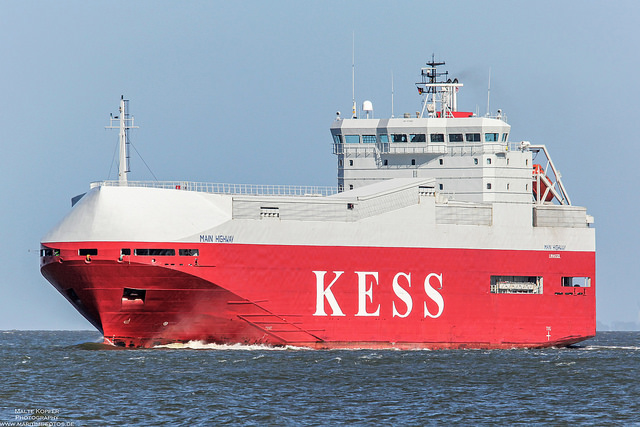PCC: (40, 60, 599, 349)
